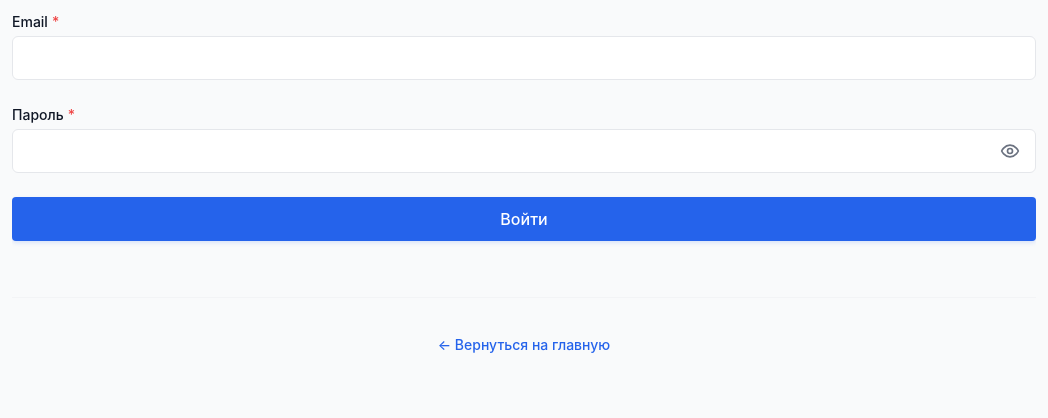
Test case: LoginForm - Microtask Redirect Timing Tests › Form validation and UI state › should show loading state during login
Type "admin@test.com" into the field named "email".
click(524, 58); type("admin@test.com")  # box 12,36 -> 1036,80
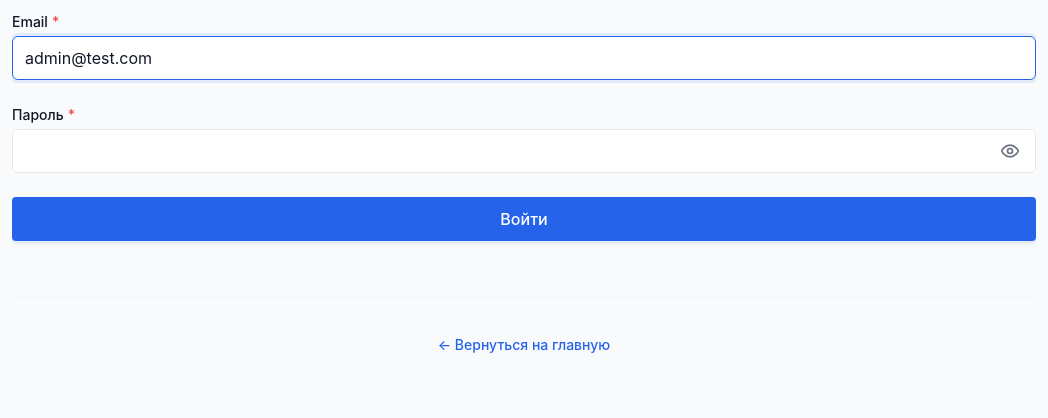
Type "password" into the password field named "password".
click(524, 151); type("password")  # box 12,129 -> 1036,173
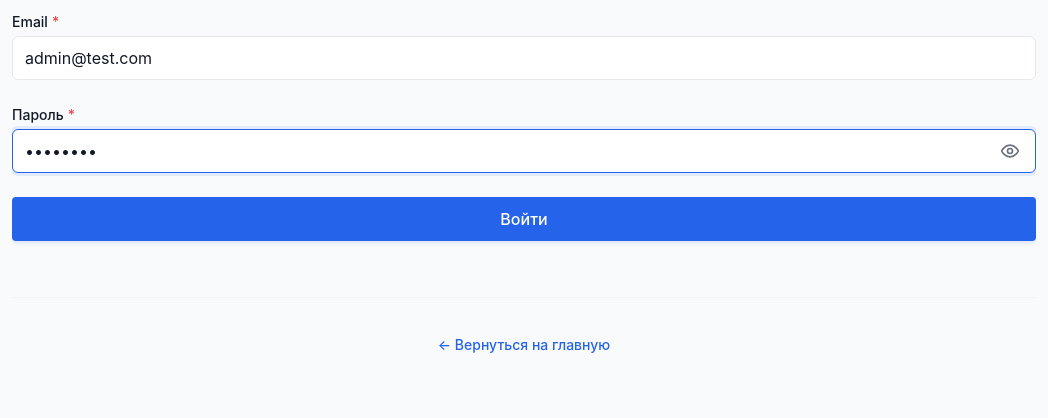
Click the button with test id "login-button".
click(524, 219)  # box 12,197 -> 1036,241
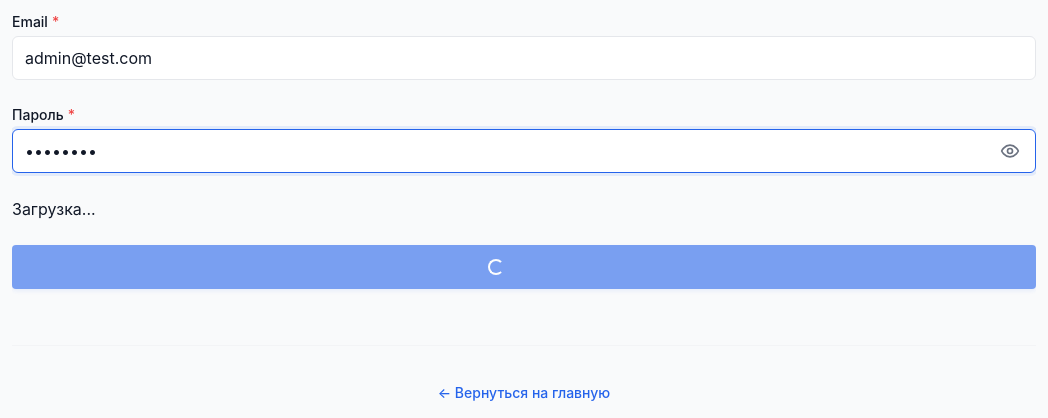
Expected: the text "Загрузка..." is shown, 12,199 -> 96,219
